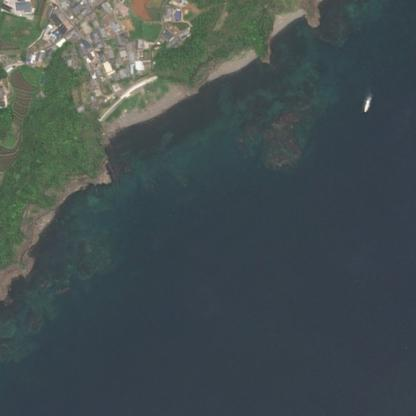ship: (362, 99, 369, 112)
